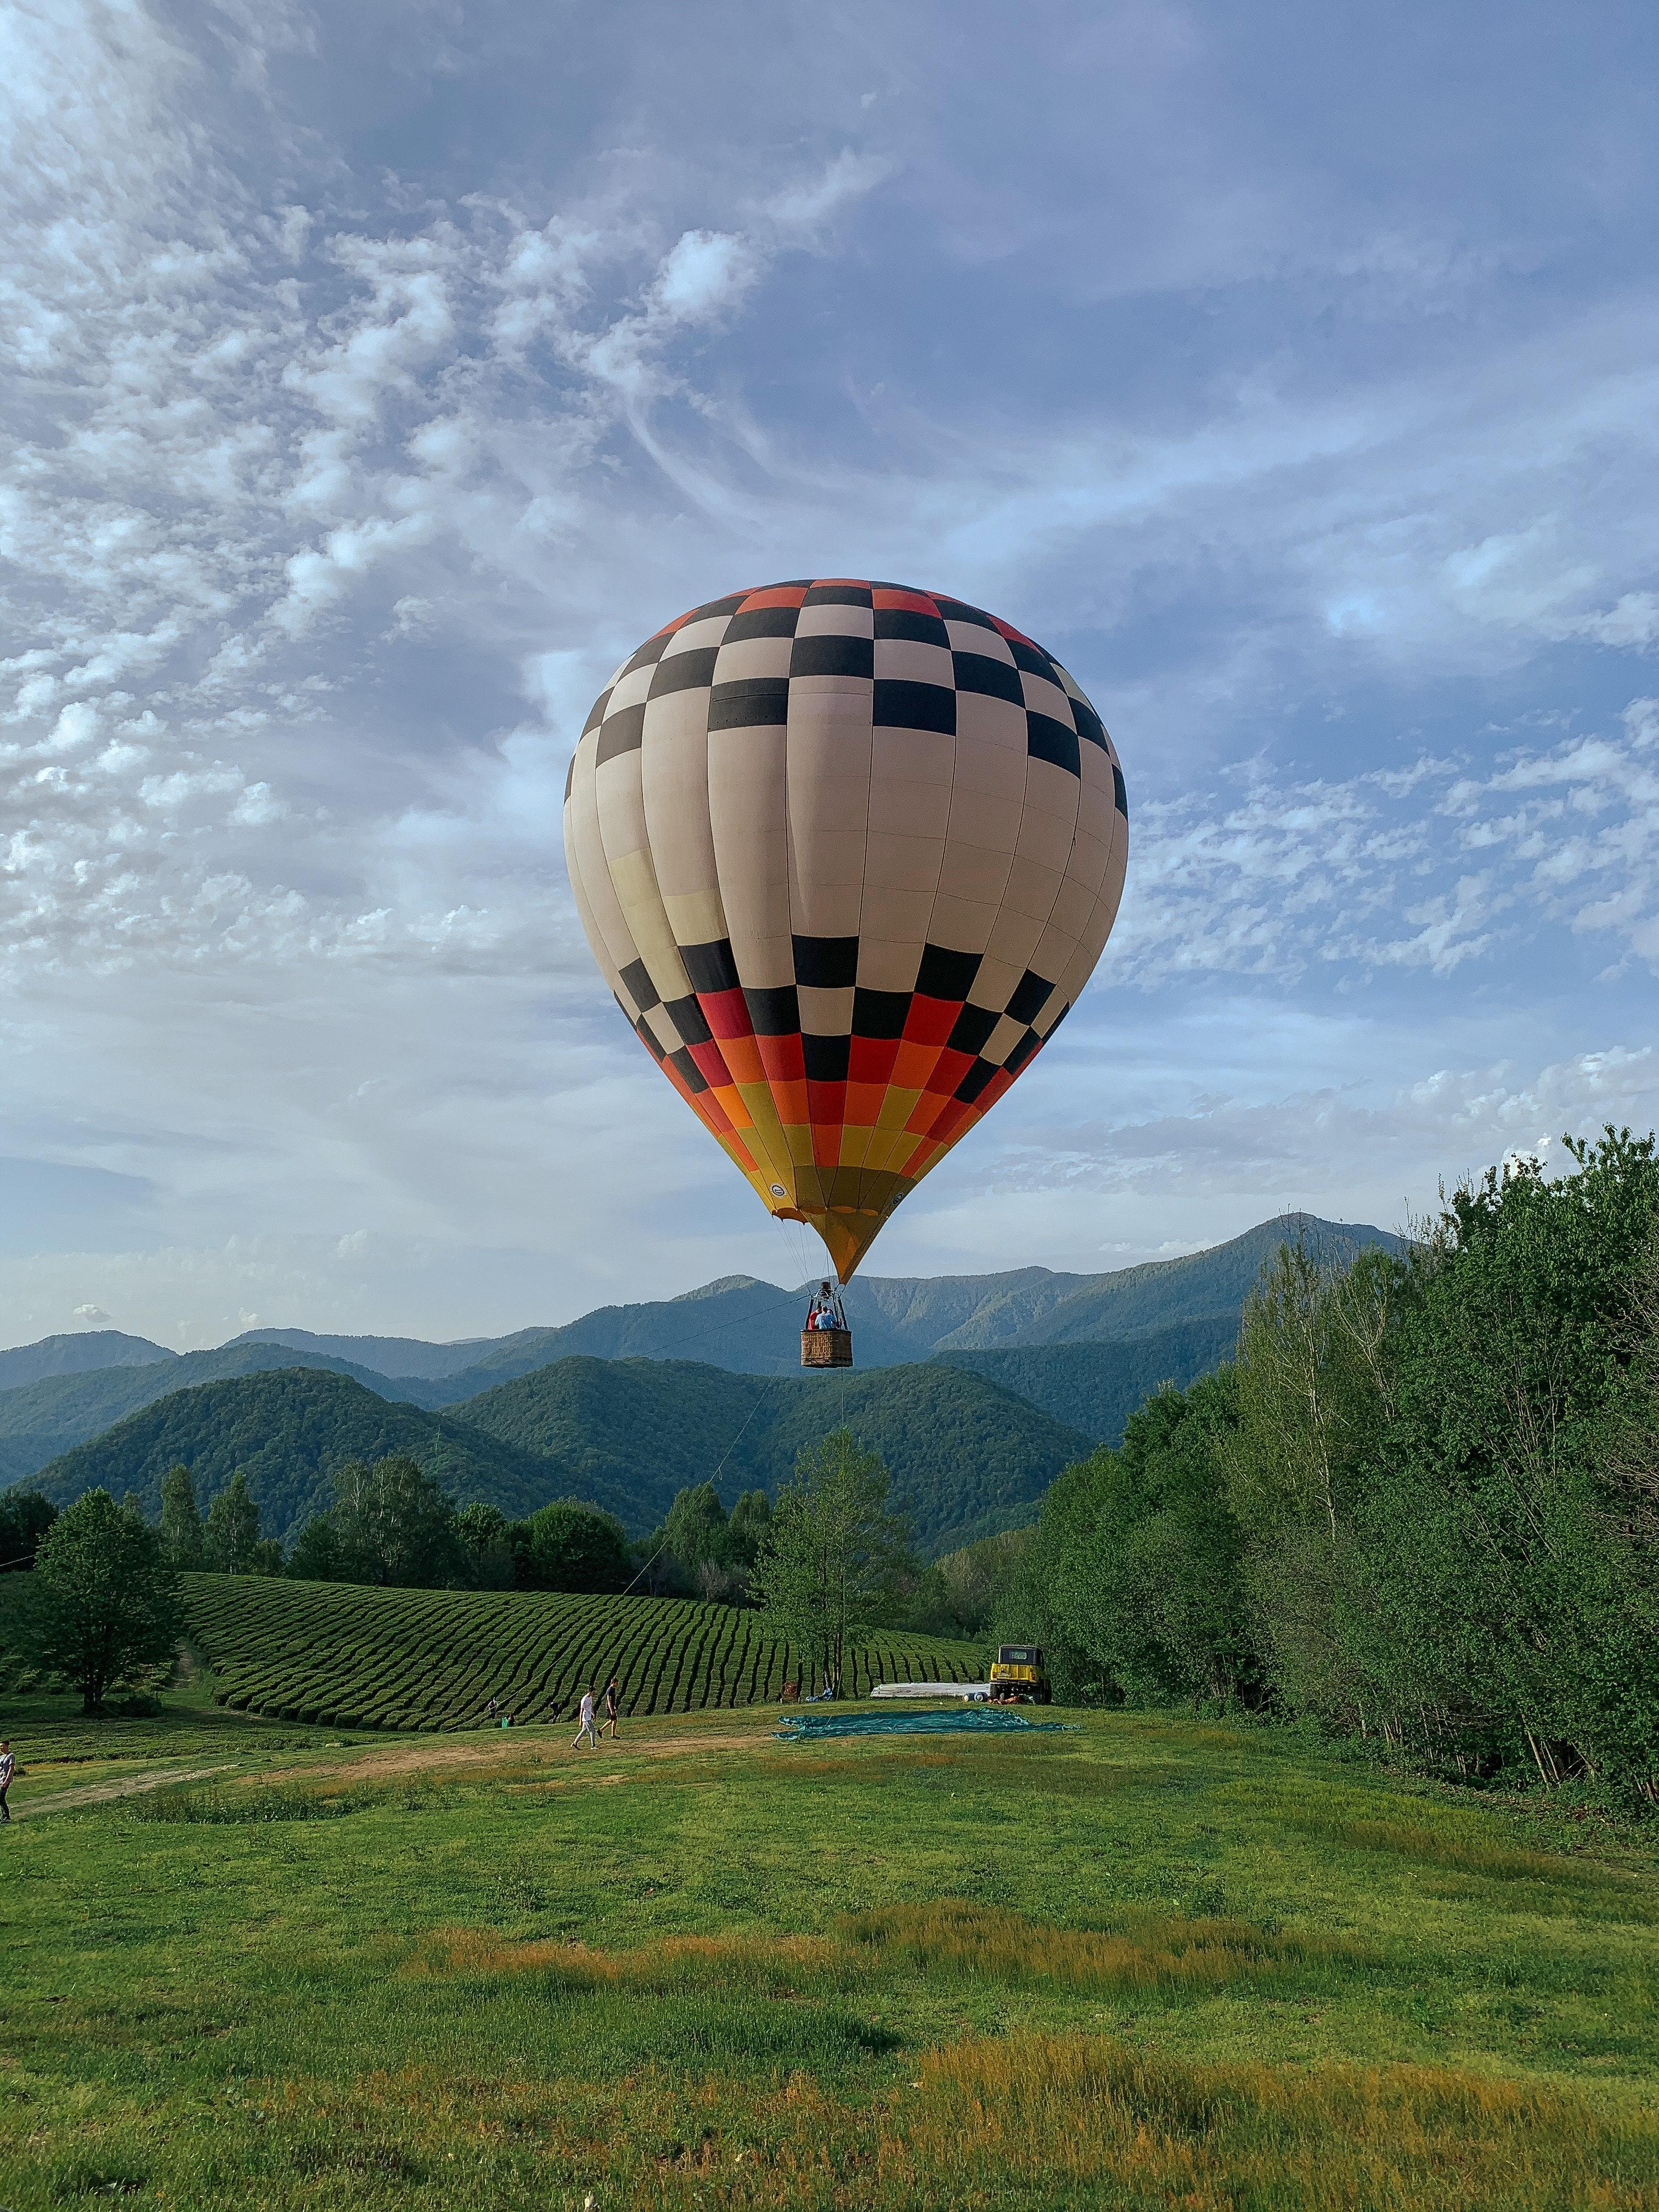hot air ballon: (559, 571, 1133, 1367)
